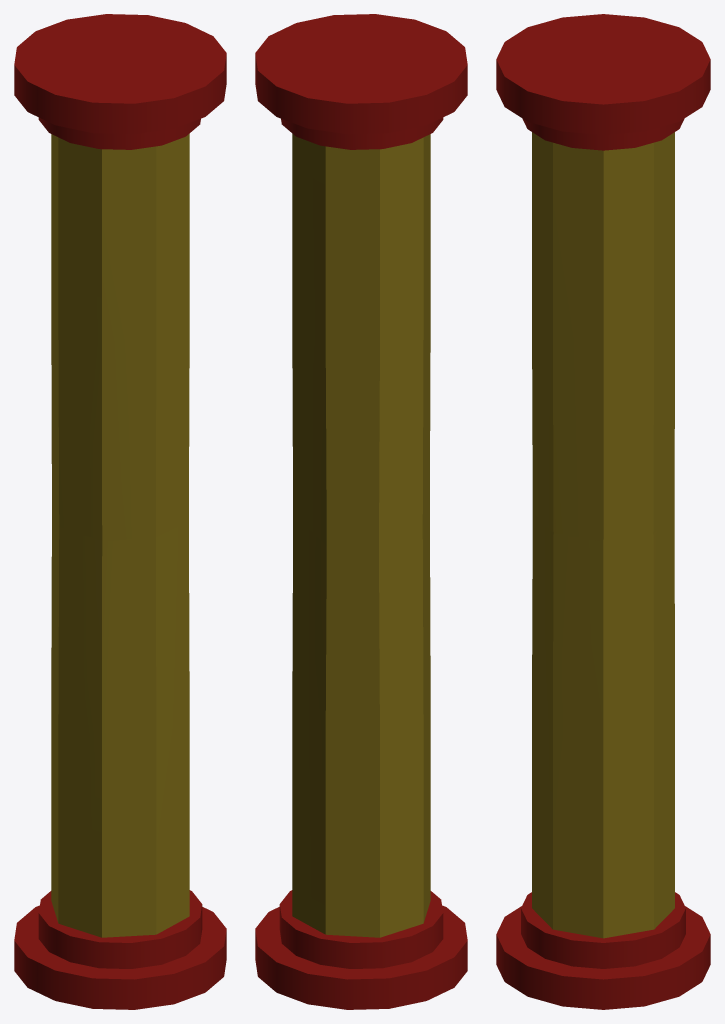
The model's file is sandstone_pillar.fbx.
3 views of the same model, side by side, from view 1: azimuth 30°, elevation 25°; view 2: azimuth 150°, elevation 25°; view 3: azimuth 270°, elevation 25° (orthographic).
Parts seen in each view (by area): view 1: Cylinder_Pillar; view 2: Cylinder_Pillar; view 3: Cylinder_Pillar.
Boxes of the visible parts, x1=… form: Cylinder_Pillar: x1=14, y1=14, x2=226, y2=1009; Cylinder_Pillar: x1=255, y1=14, x2=467, y2=1009; Cylinder_Pillar: x1=496, y1=14, x2=710, y2=1009.
Bounding box in the file's own units: 235 × 1094 × 235.
